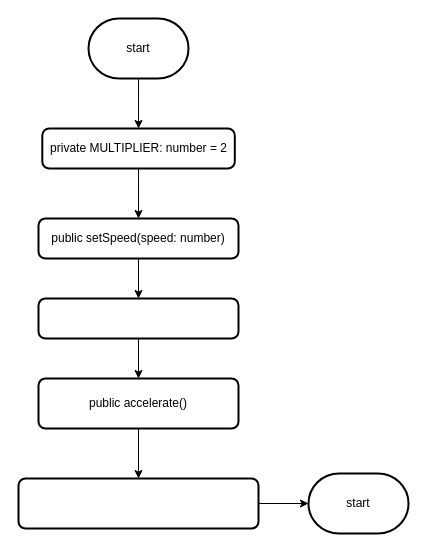
Some shapes in this 426 by 551 pixel diagram are drawn without their labels. The centre of each missing label's shape, as x and y in pixels:
super.setSpeed(speed * this.MULTIPLIER): the point at 138,318
super.setSpeed(super.getSpeed() * 2): the point at 138,503
